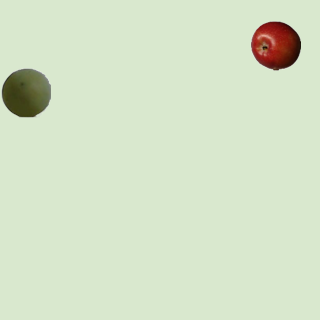Apple Braeburn: (250, 20, 300, 70)
Grape White 4: (0, 67, 50, 117)
